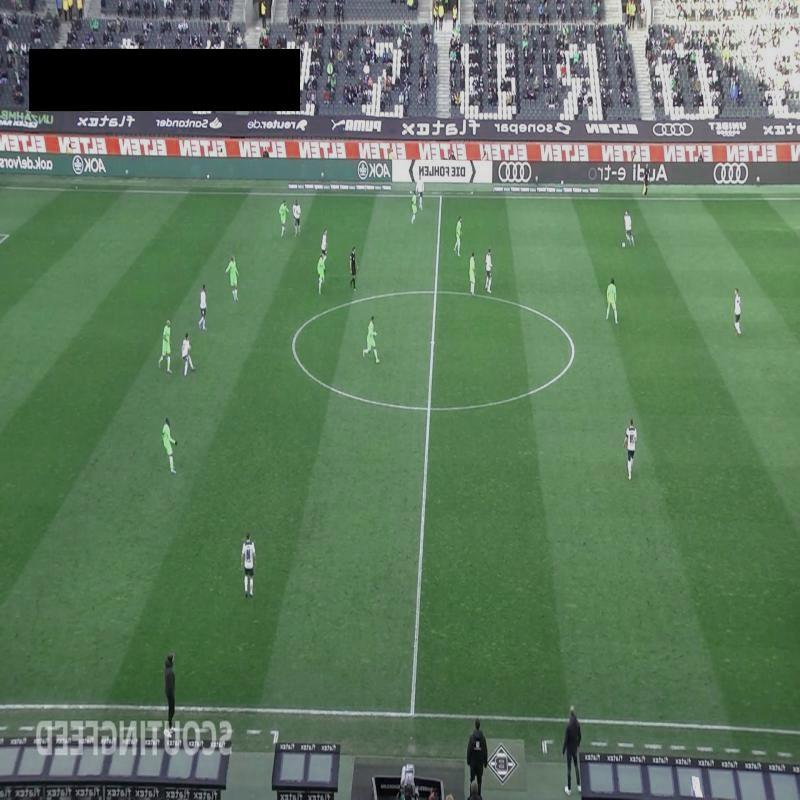13: (435, 188, 449, 202)
14: (430, 284, 444, 297)
15: (423, 400, 438, 415)
16: (403, 704, 421, 724)
9: (0, 227, 14, 241)
c: (564, 341, 584, 358), (287, 336, 301, 349)
